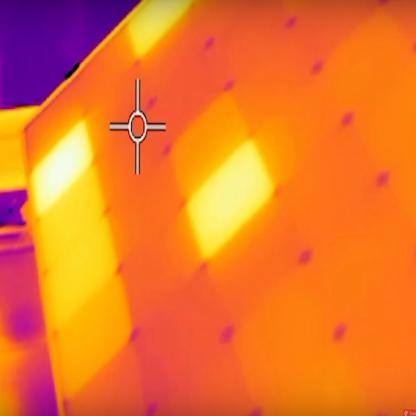Defects: (192, 170, 262, 232), (134, 2, 198, 52), (32, 144, 90, 198)
